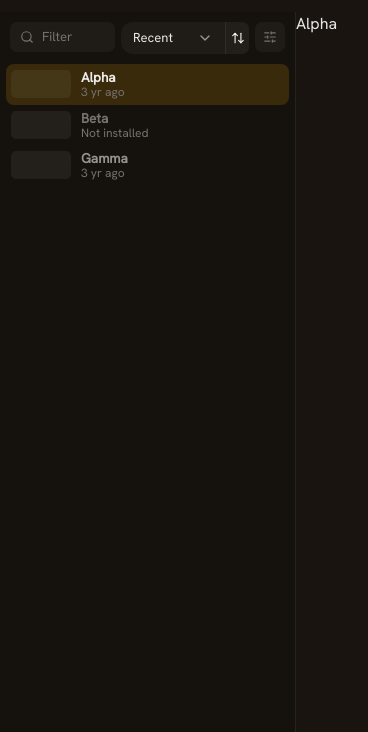
Scenario: library list-detail › keeps the selection across filter changes when possible
Click the button "Gamma 3 yr ago": {"x": 41, "y": 165} [6,145,289,186]
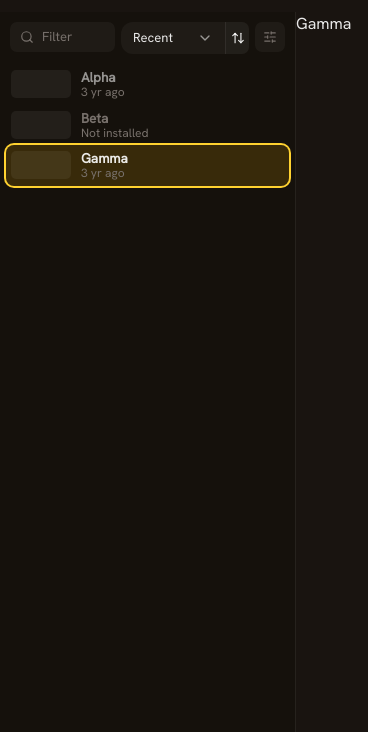
Result: the text with test id "stage" reads "Gamma" at [296,13,352,34]
In the field with placeholder "Filter": {"x": 74, "y": 37} [42,27,105,47], type "a"
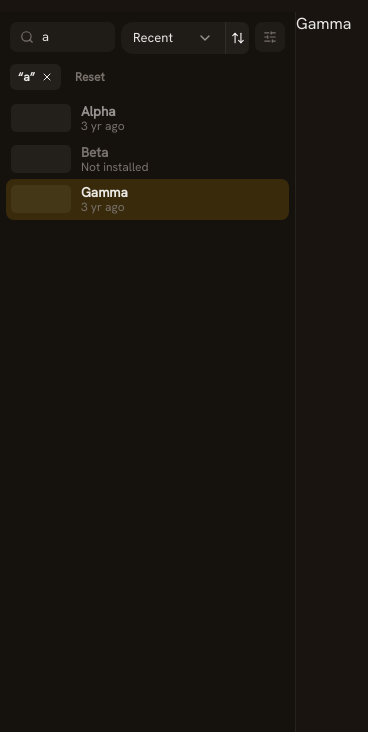
Result: the text with test id "stage" reads "Gamma" at [296,13,352,34]
Replace the text in the field with placeholder "Filter" with "beta": {"x": 74, "y": 37} [42,27,105,47]
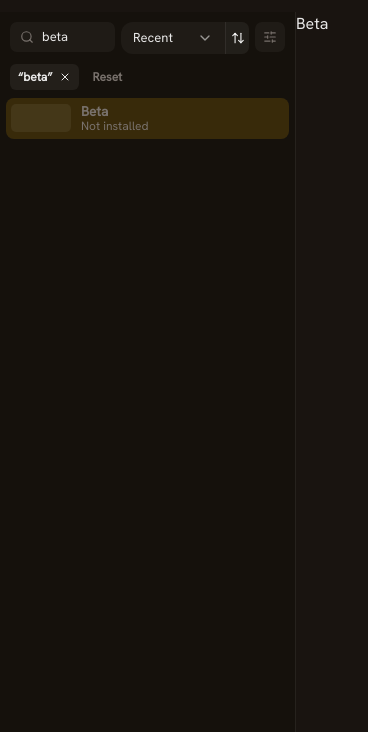
Result: the text with test id "stage" reads "Beta" at [296,13,328,34]
